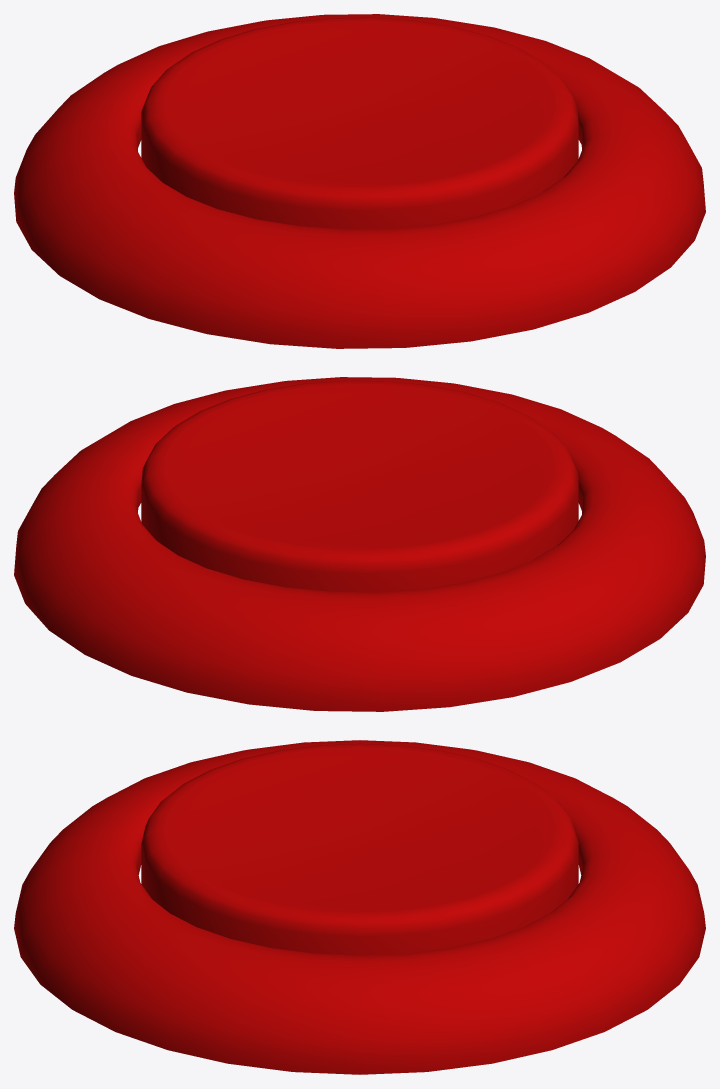
File: arcadeButton.fbx
3 renders of one model, top to bottom at view 1: azimuth 30°, elevation 25°; view 2: azimuth 150°, elevation 25°; view 3: azimuth 270°, elevation 25°, orthographic.
Visible parts, largest first — view 1: Empty_Mesh; view 2: Empty_Mesh; view 3: Empty_Mesh.
Boxes of the visible parts, x1=… form: Empty_Mesh: x1=14, y1=14, x2=705, y2=348; Empty_Mesh: x1=14, y1=377, x2=705, y2=711; Empty_Mesh: x1=14, y1=740, x2=705, y2=1074.
Bounding box in the file's own units: 4.02 × 0.6308 × 4.02.
